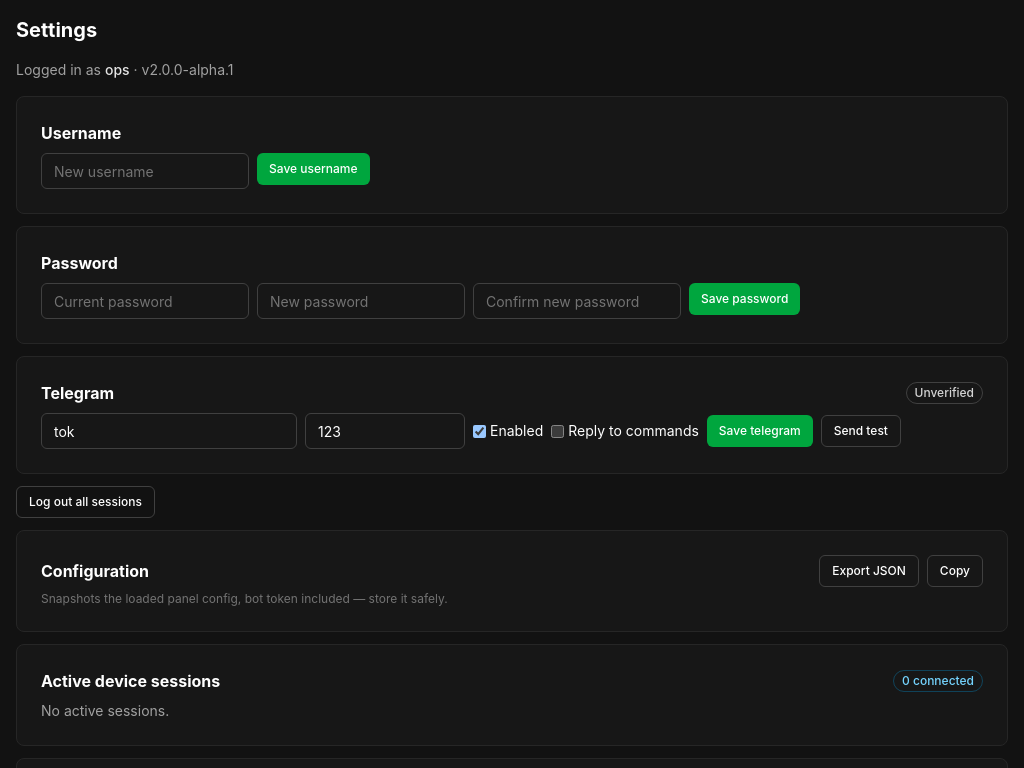
Test: web settings page › saves usernames and shows errors
Type "ops2" into the field with placeholder "New username" at x=145, y=171, box [41,153,249,189]
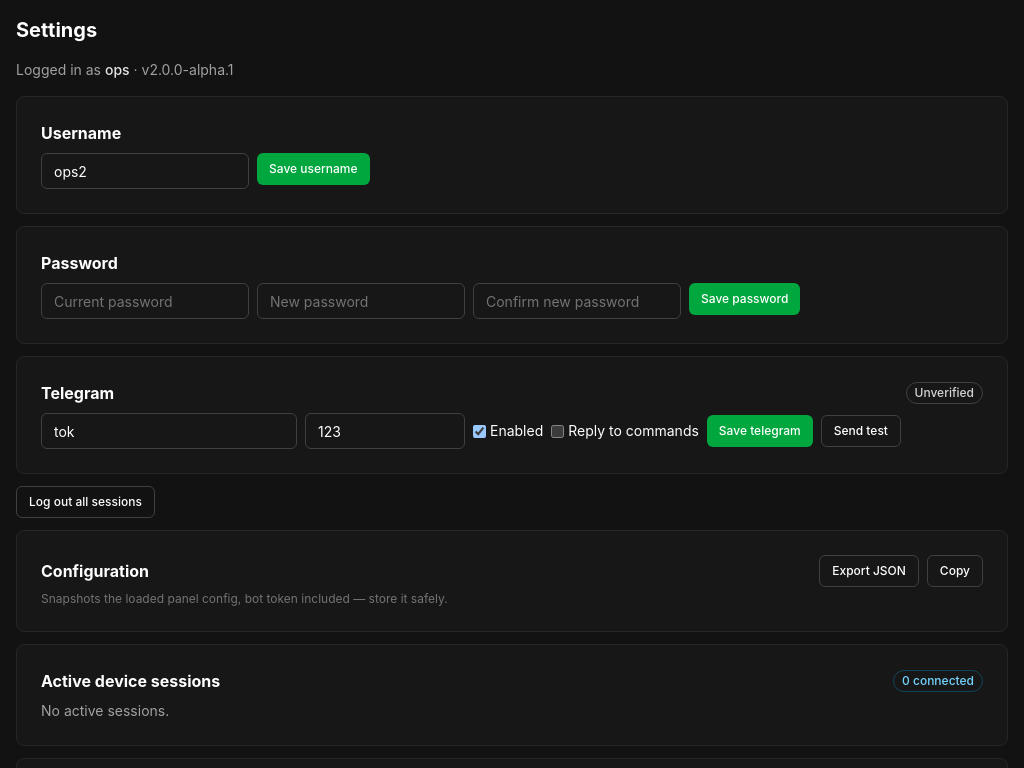
Click the button "Save username" at x=313, y=169, box [257,153,370,185]
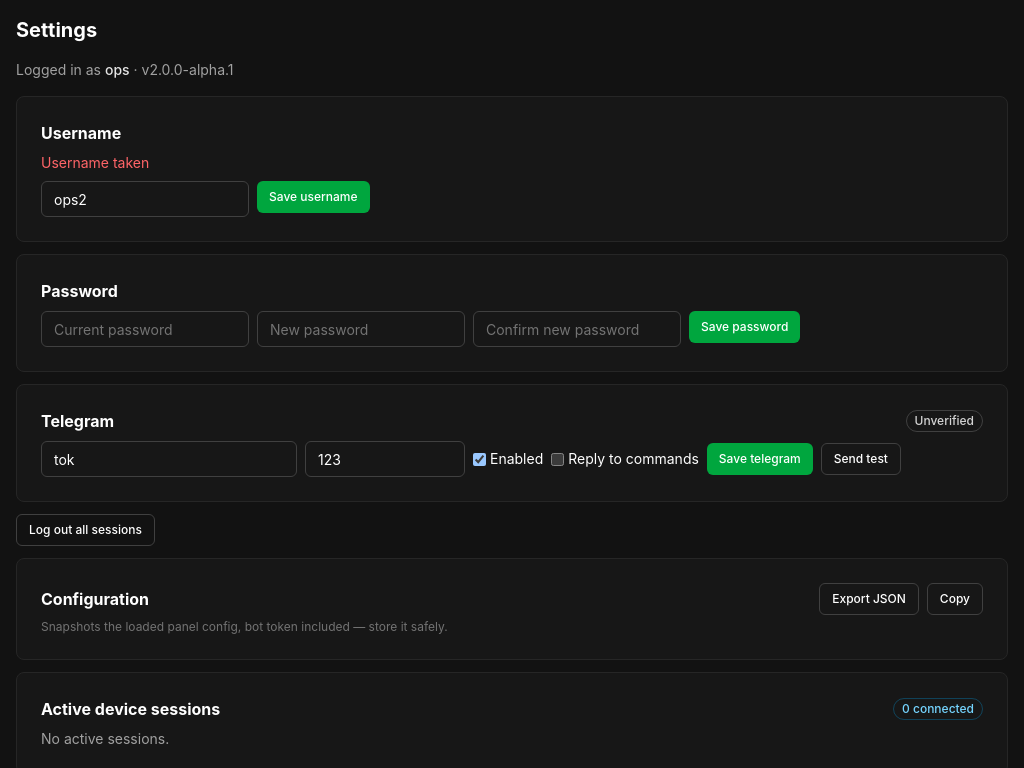
Check: the text "Username taken" is shown, box [41,154,149,171]
